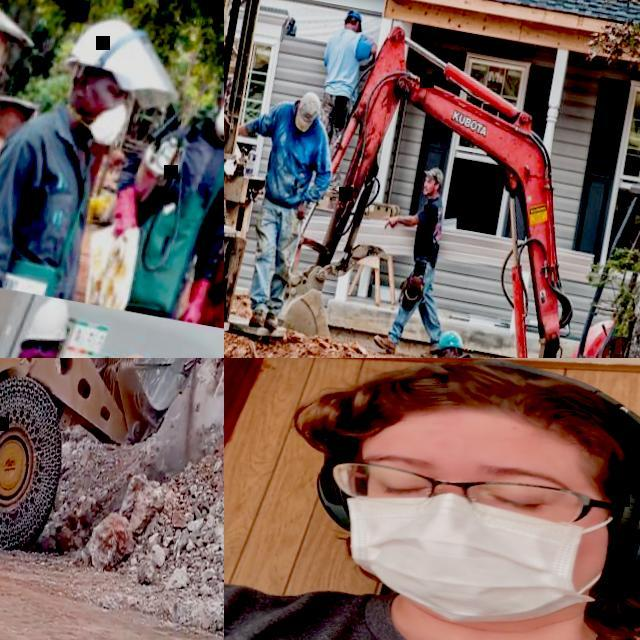helmet: (336, 358, 640, 475), (19, 288, 74, 352)
